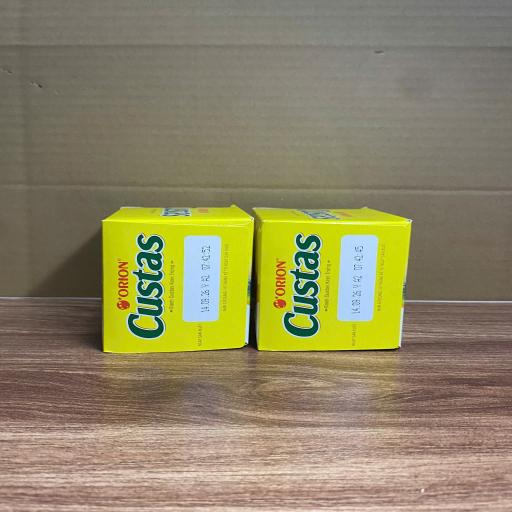custas: (252, 206, 412, 351), (102, 205, 254, 353)
